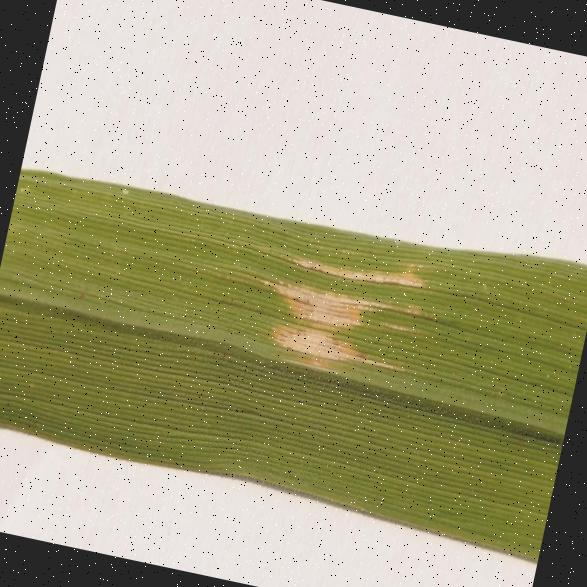Bacteria_Leaf_Blight: (213, 196, 458, 432)
